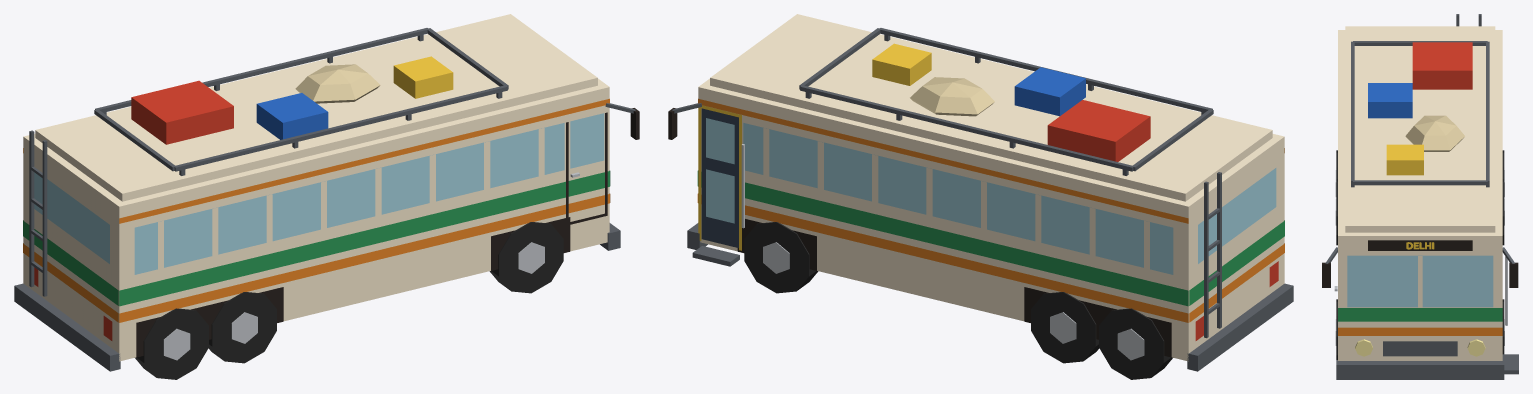
File: bus.glb
3 renders of one model, left to right at view 1: azimuth 30°, elevation 25°; view 2: azimuth 150°, elevation 25°; view 3: azimuth 270°, elevation 25°, orthographic. The views are drawn at different scales.
Visible parts, largest first — view 1: bus; view 2: bus; view 3: bus.
Boxes of the visible parts, <box> form: bus: <box>14,14,639,379</box>; bus: <box>668,14,1293,379</box>; bus: <box>1322,14,1518,379</box>.
Size of the model in its own units: 6.89 by 2.74 by 2.62.
1 material, 1 textured.
